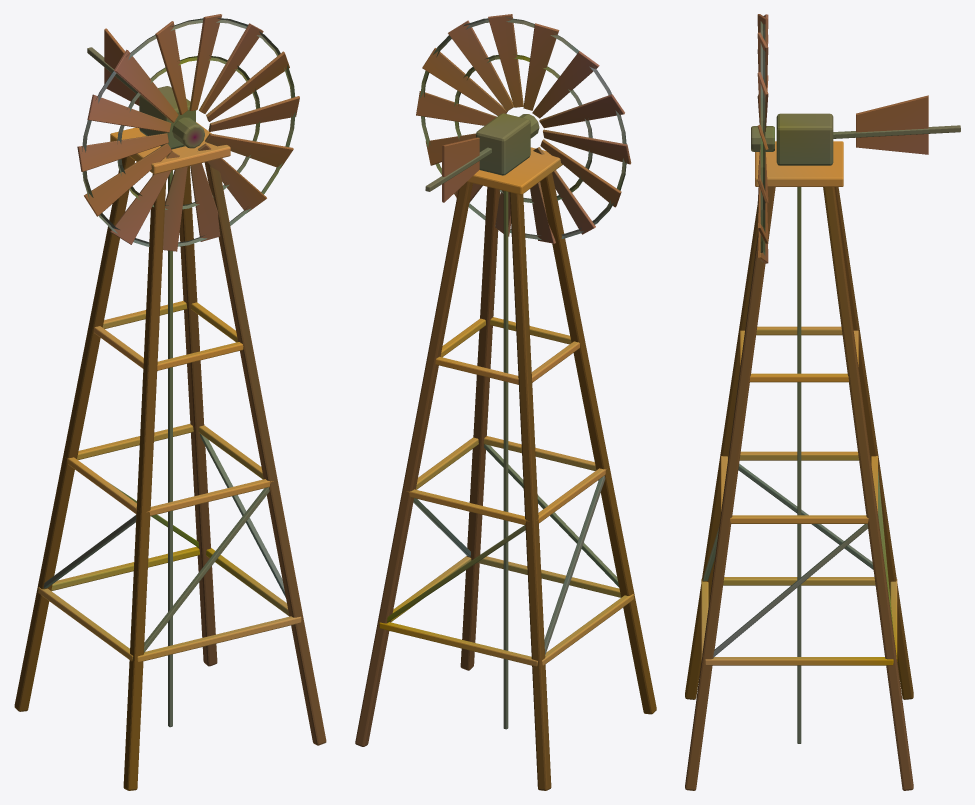
File: Windmill_01.glb
3 views of the same model, side by side, from view 1: azimuth 30°, elevation 25°; view 2: azimuth 150°, elevation 25°; view 3: azimuth 270°, elevation 25° (orthographic). The views are drawn at different scales.
Visible parts, largest first — view 1: Tower, Rotor; view 2: Tower, Rotor; view 3: Tower, Rotor.
Part boxes in pixels (x1,y1,x2,y2): Tower: (14, 28, 326, 790); Rotor: (77, 14, 299, 251); Tower: (355, 113, 656, 790); Rotor: (416, 14, 631, 243); Tower: (685, 95, 960, 790); Rotor: (751, 14, 774, 263).
Bounding box in the file's own units: 3.1 × 9.82 × 3.42.
